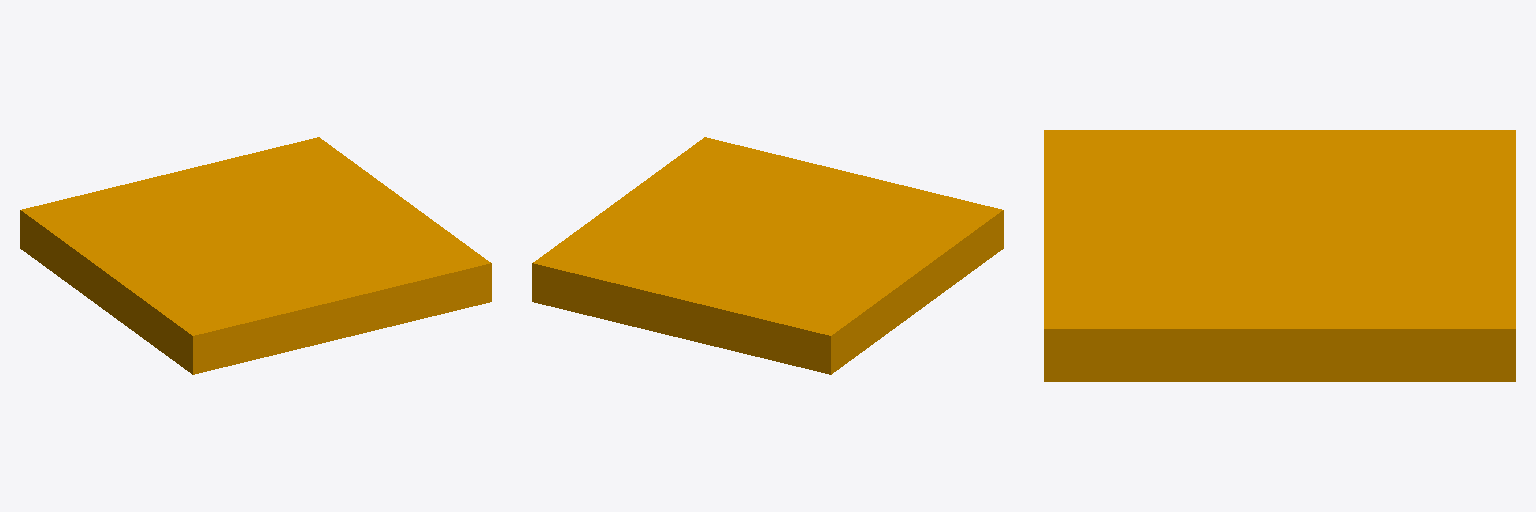
The robot description file, URDF, robot "apriltag_5_3611":
<robot name="apriltag_5_3611">

    <link name="apriltag_link_id5">
        <inertial>
            <origin xyz="0 0 0" rpy="0 0 0"/>
            <mass value="1.0"/>
            <inertia ixx="0.07461" ixy="0.0" ixz="0.0" iyy="0.5854" iyz="0.0" izz="0.02641"/>
        </inertial>
        <collision>
            <origin xyz="0 0 0" rpy="0 0 0"/>
            <geometry>
                <box size="0.2 0.2 0.1"/>
            </geometry>
        </collision>
        <visual>
            <origin xyz="0 0 0" rpy="0 0 0"/>
            <geometry>
                <mesh filename="package://apriltag_description/meshes/apriltag_5.dae"/>
            </geometry>
        </visual>
    </link>
    
    <gazebo reference="apriltag_link_id5">
        <kp>100000.0</kp>
        <kd>100000.0</kd>
        <mu1>0.1</mu1>
        <mu2>0.1</mu2>  
        <fdir1>1 0 0</fdir1>

           <!-- this tag may be unecessary if static is set to true
            (but using since may set static to false later)-->
        <gravity>0</gravity>
    </gazebo>

    <!-- Make sure that the reference="" attribute is not specified -->
    <gazebo>
        <static>true</static>
     
        
    </gazebo>
    

</robot>

--- Facts derived from the render (not from the file) ---
Views: 3 orthographic renders of the robot side by side, from view 1: azimuth 30°, elevation 25°; view 2: azimuth 150°, elevation 25°; view 3: azimuth 270°, elevation 25°.
Model apriltag_5_3611 with 1 links and 0 joints (none), rooted at apriltag_link_id5, posed every joint at zero.
Visible links, largest first — view 1: apriltag_link_id5; view 2: apriltag_link_id5; view 3: apriltag_link_id5.
Link boxes in pixels (box(x1,y1,x2,y2)): apriltag_link_id5: box(20, 137, 491, 374); apriltag_link_id5: box(532, 137, 1003, 374); apriltag_link_id5: box(1044, 130, 1515, 381).
Bounding box of the posed robot: 0.16 × 0.16 × 0.0199 m (x, y, z).
Meshes: 1 distinct files referenced, 1 mesh visuals loaded (1 Collada DAE).